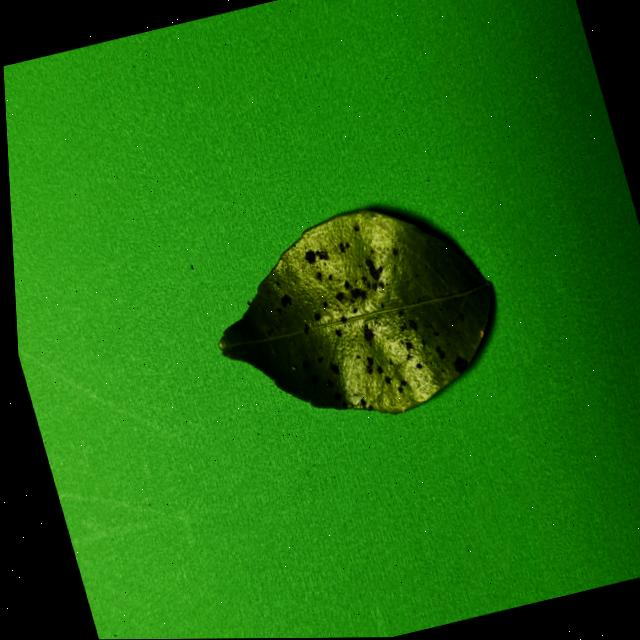sooty_mold: (219, 210, 491, 413)
